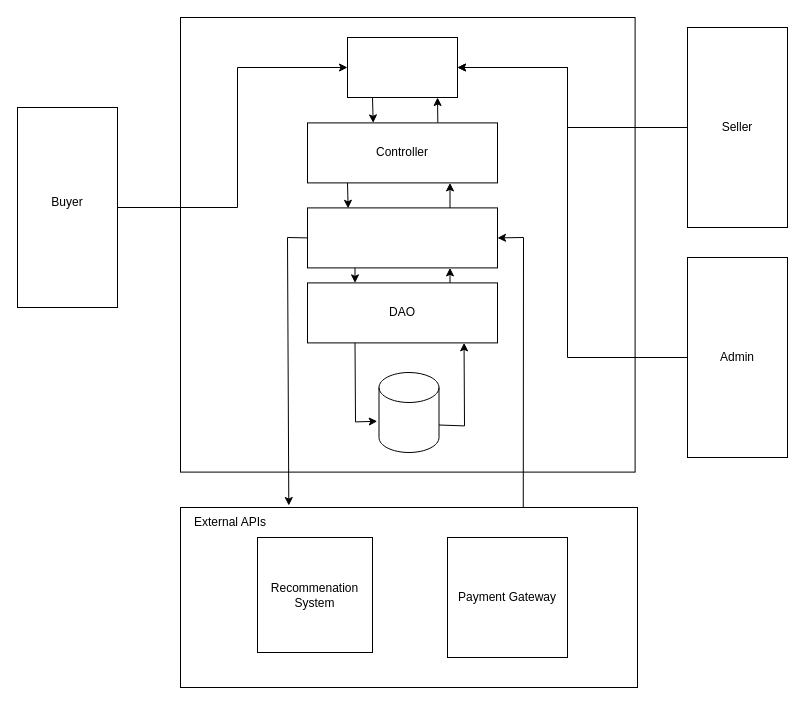
Some shapes in this 805 by 705 pixel diagram are drawn without their labels. Each missing label, with the centre of its shape:
"Authenticaiton" goes at (402,67).
"Service" goes at (402,237).
"shopirent" goes at (408,412).
